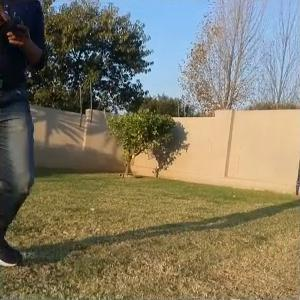follow: (0, 0, 60, 271)
